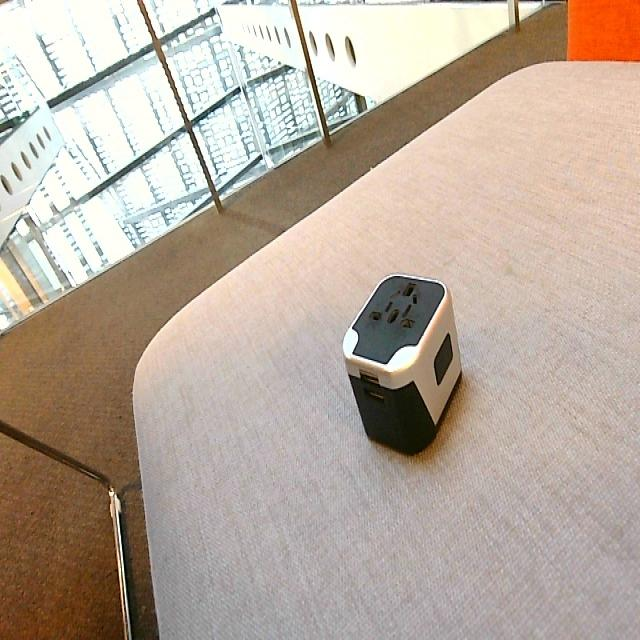adapter: (341, 270, 462, 454)
